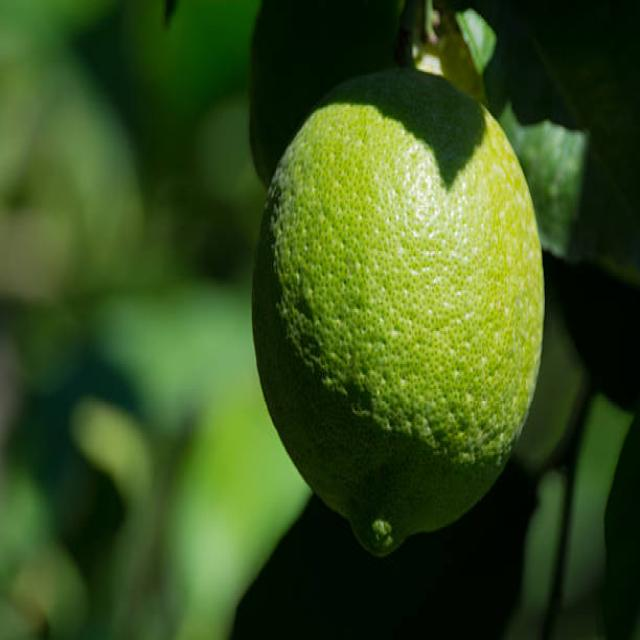Unripe: (253, 59, 543, 558)
